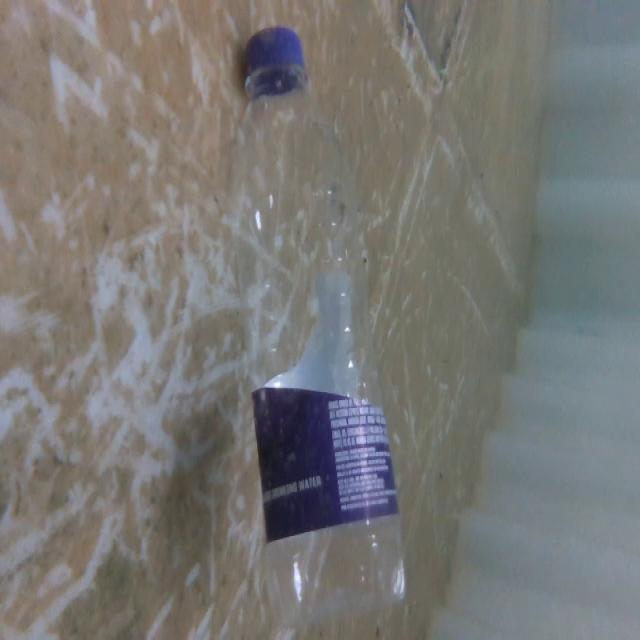plastic bottle: (233, 23, 411, 629)
